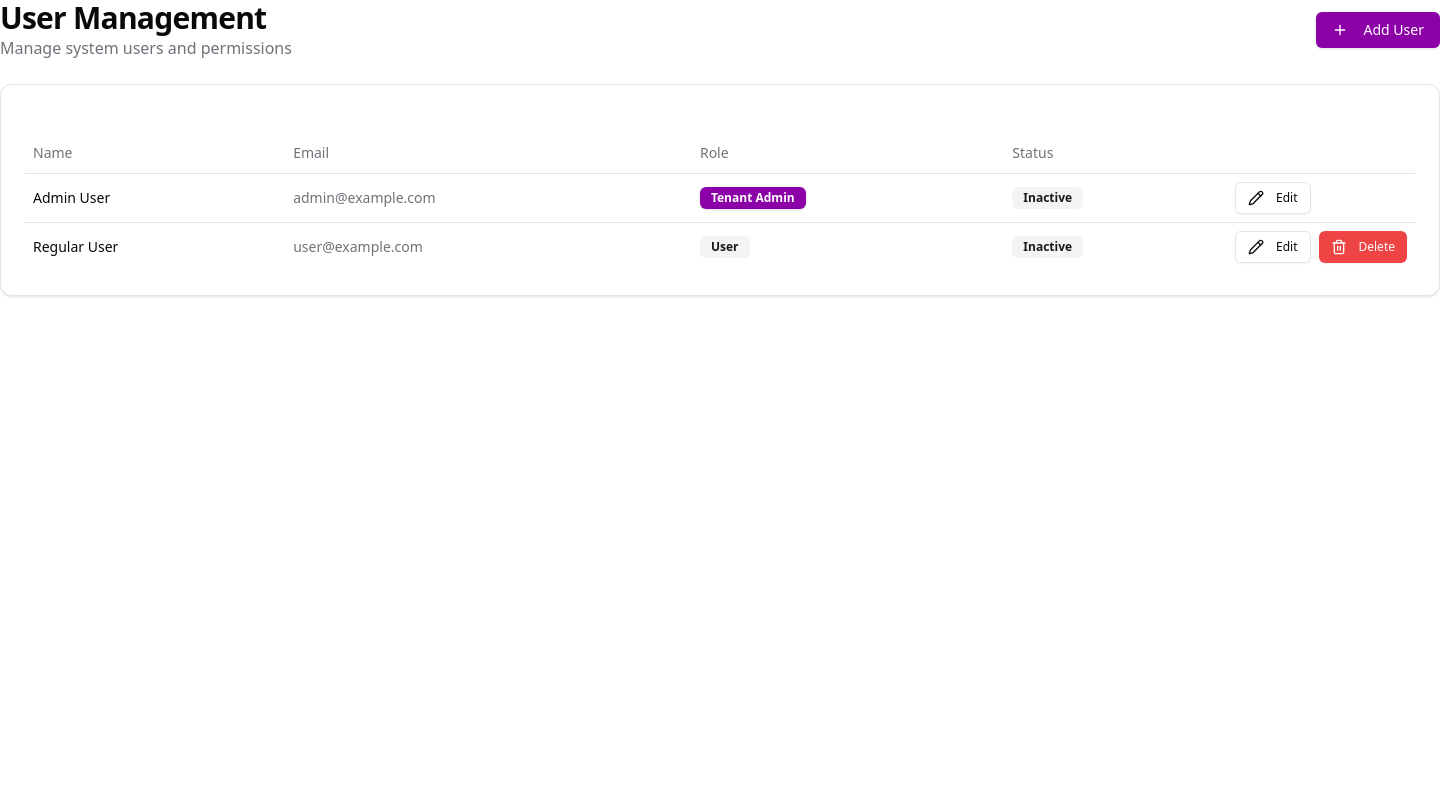
Scenario: UserManagement › shows create user modal when add user clicked
Click the button "Add User".
click(1378, 30)  # box [1316,12,1439,48]
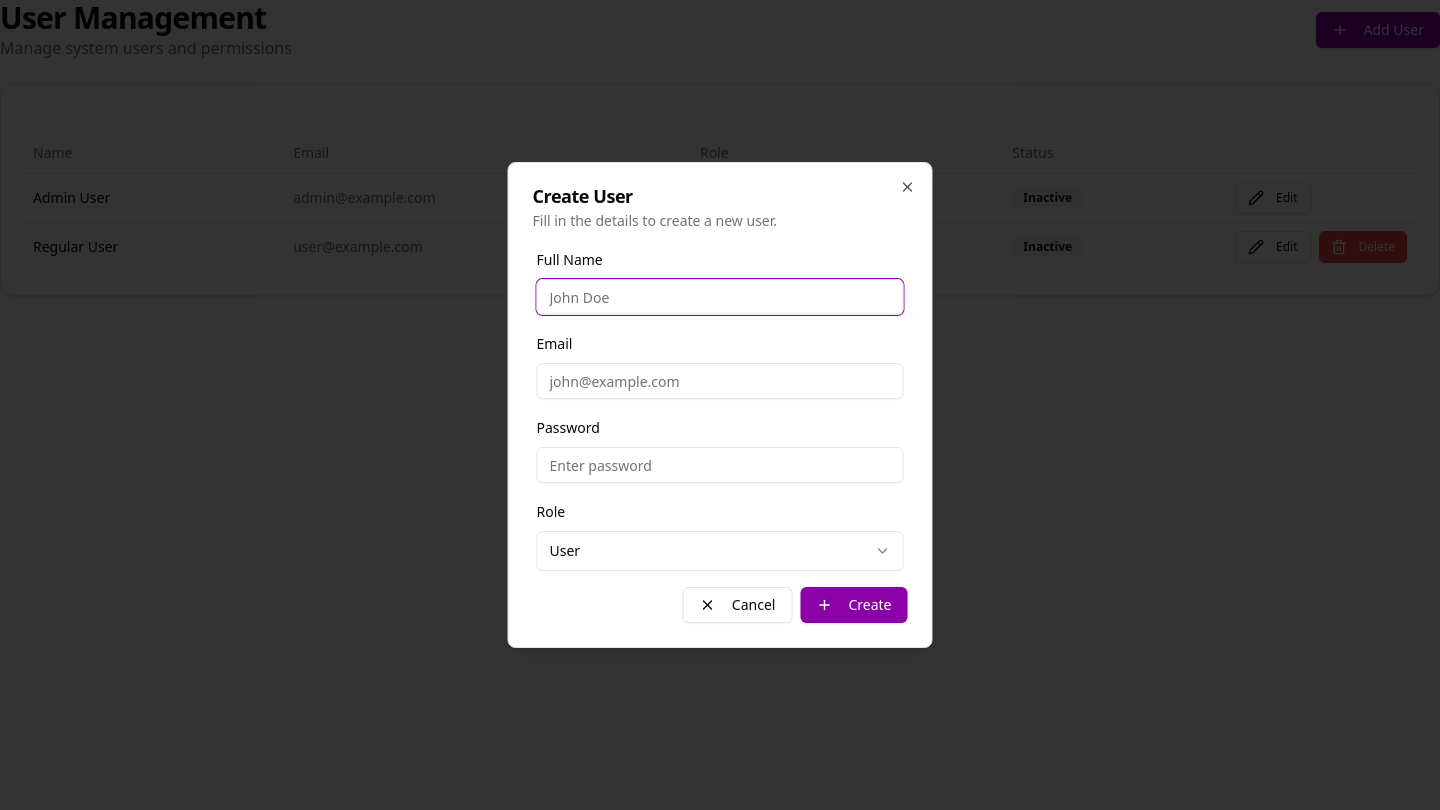
Expected: the heading "Create User" is shown, [532,184,633,208]
